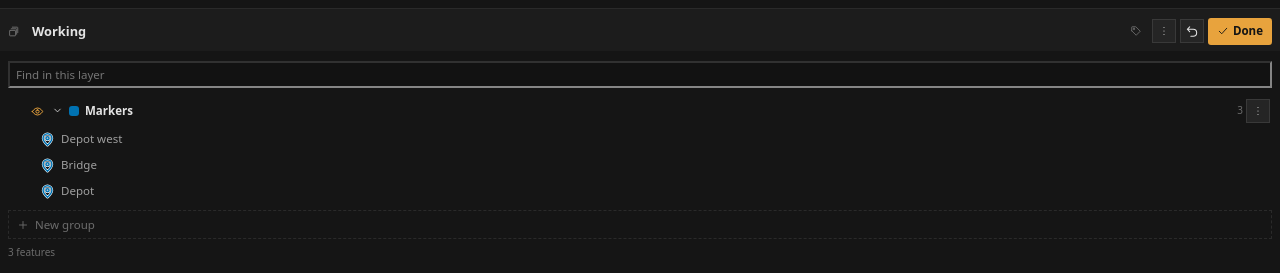
Test: personal layers › finds features by name and opens the groups that hold them
The image size is (1280, 273).
In the search field named "Find in this layer": (640, 74) x1=8 y1=61 x2=1272 y2=88, type "depot"
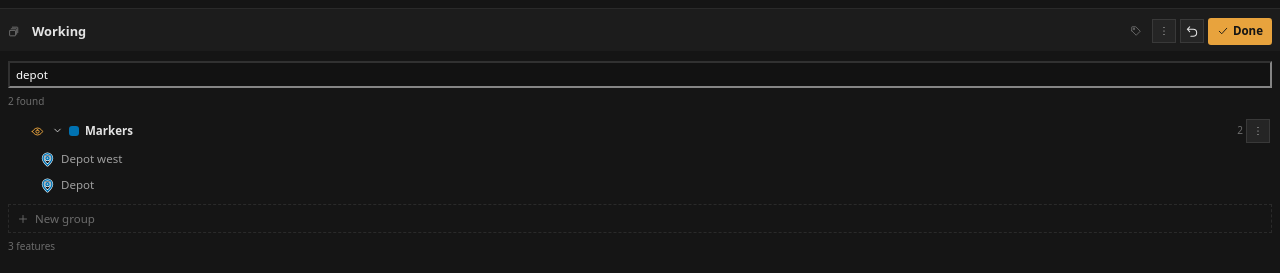
Result: the text "2 found" is shown at x1=8 y1=94 x2=44 y2=108
